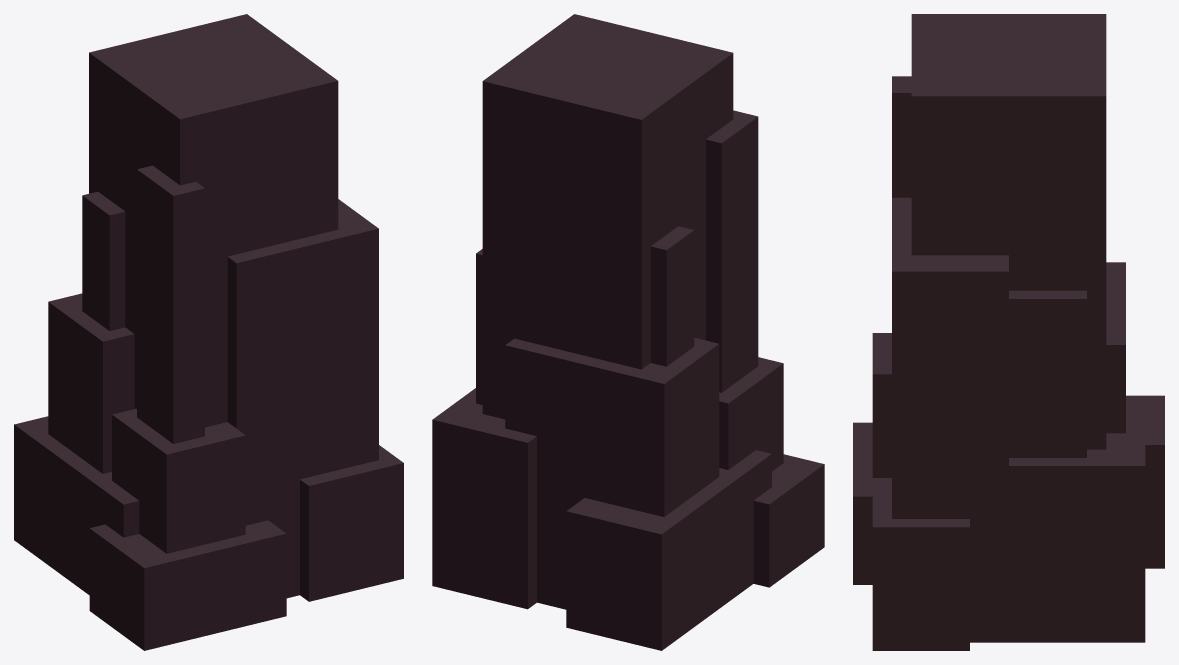
Rendered from CA_Rock_02.fbx.
3 renders of one model, left to right at view 1: azimuth 30°, elevation 25°; view 2: azimuth 150°, elevation 25°; view 3: azimuth 270°, elevation 25°, orthographic. The views are drawn at different scales.
Parts seen in each view (by area): view 1: CA_Rock_02; view 2: CA_Rock_02; view 3: CA_Rock_02.
Part boxes in pixels (bbox=[...]): CA_Rock_02: bbox=[14, 14, 403, 650]; CA_Rock_02: bbox=[432, 14, 824, 650]; CA_Rock_02: bbox=[853, 14, 1164, 650].
Bounding box in the file's own units: 34 × 60 × 32.
